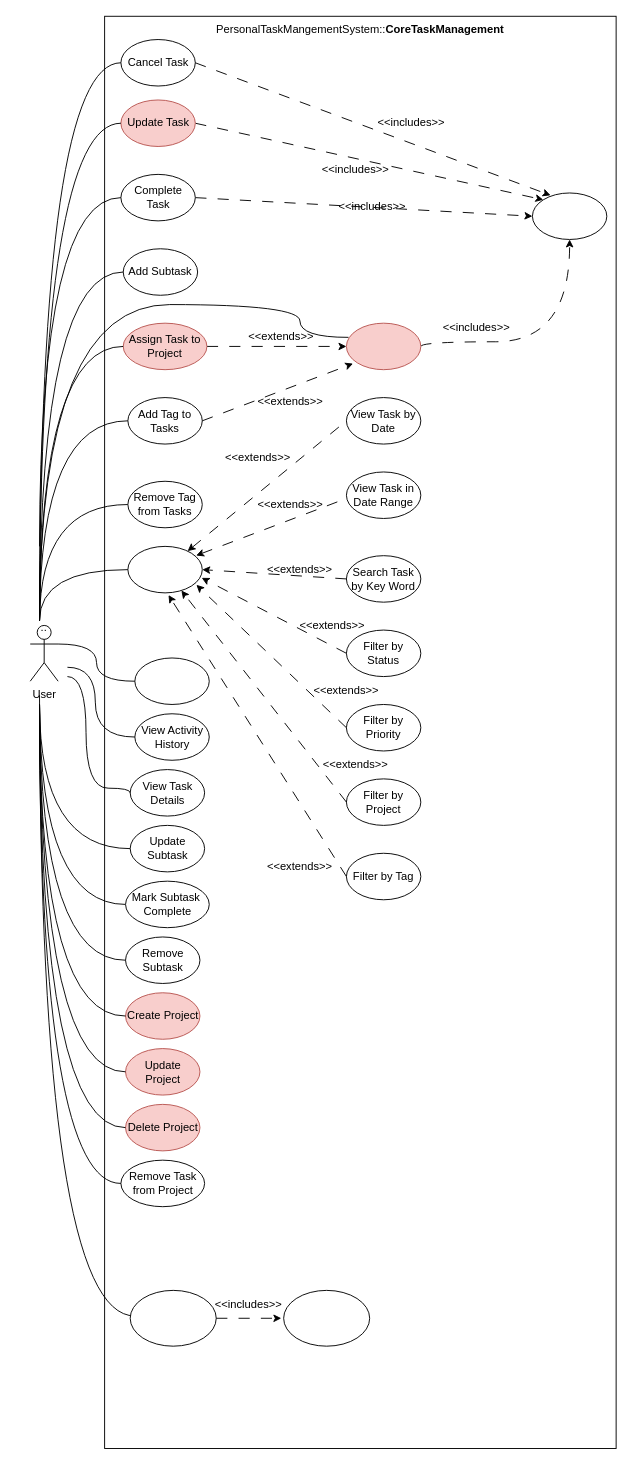
This 632x1465 diagram has some shape labels left out. Each missing label, with the centre of its shape:
Create Tag: the point at 171,680
Create Task: the point at 383,346
Record Activity Entry: the point at 569,215
Validate Collaborator Capacity: the point at 326,1317
View Overloaded Collaborators: the point at 172,1317
View Tasks: the point at 164,569
